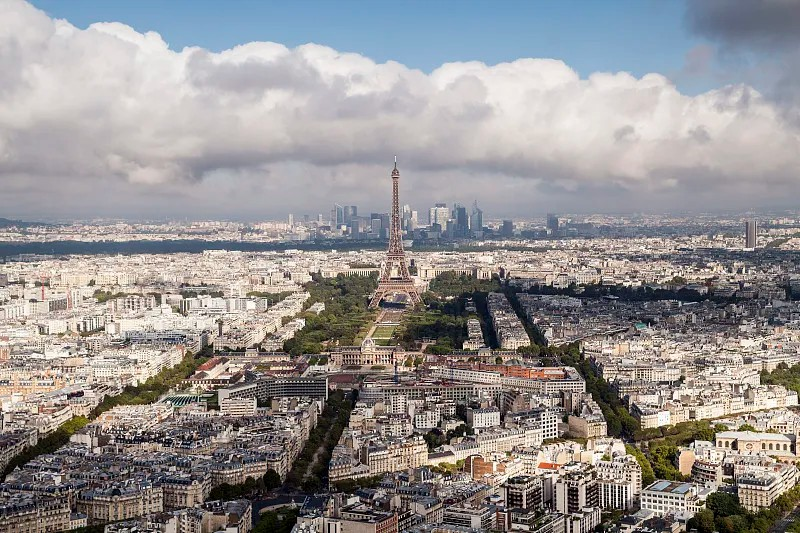Eiffel: (368, 155, 425, 311)
